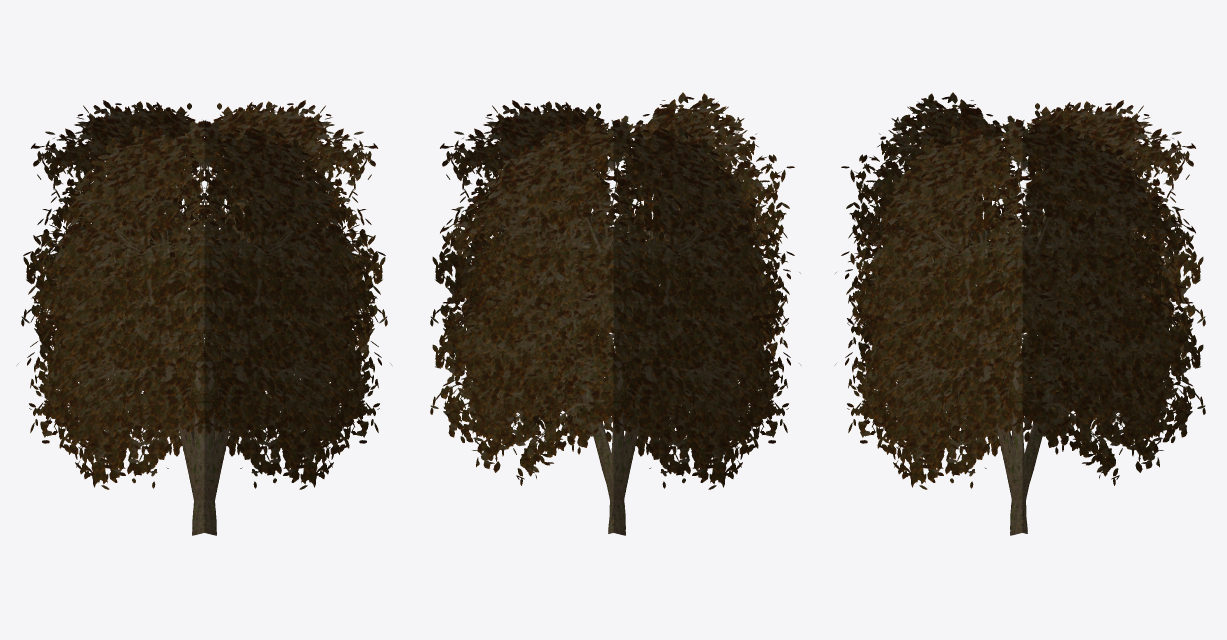
File: tree_02_lod3.glb
3 renders of one model, left to right at view 1: azimuth 30°, elevation 25°; view 2: azimuth 150°, elevation 25°; view 3: azimuth 270°, elevation 25°, orthographic.
Parts seen in each view (by area): view 1: Tree_02_LOD3; view 2: Tree_02_LOD3; view 3: Tree_02_LOD3.
Part boxes in pixels (x1=…): Tree_02_LOD3: x1=17, y1=100, x2=391, y2=535; Tree_02_LOD3: x1=430, y1=92, x2=800, y2=535; Tree_02_LOD3: x1=835, y1=92, x2=1205, y2=535.
Size of the model in its own units: 8.68 by 9.3 by 7.52.
1 material, 1 textured.
